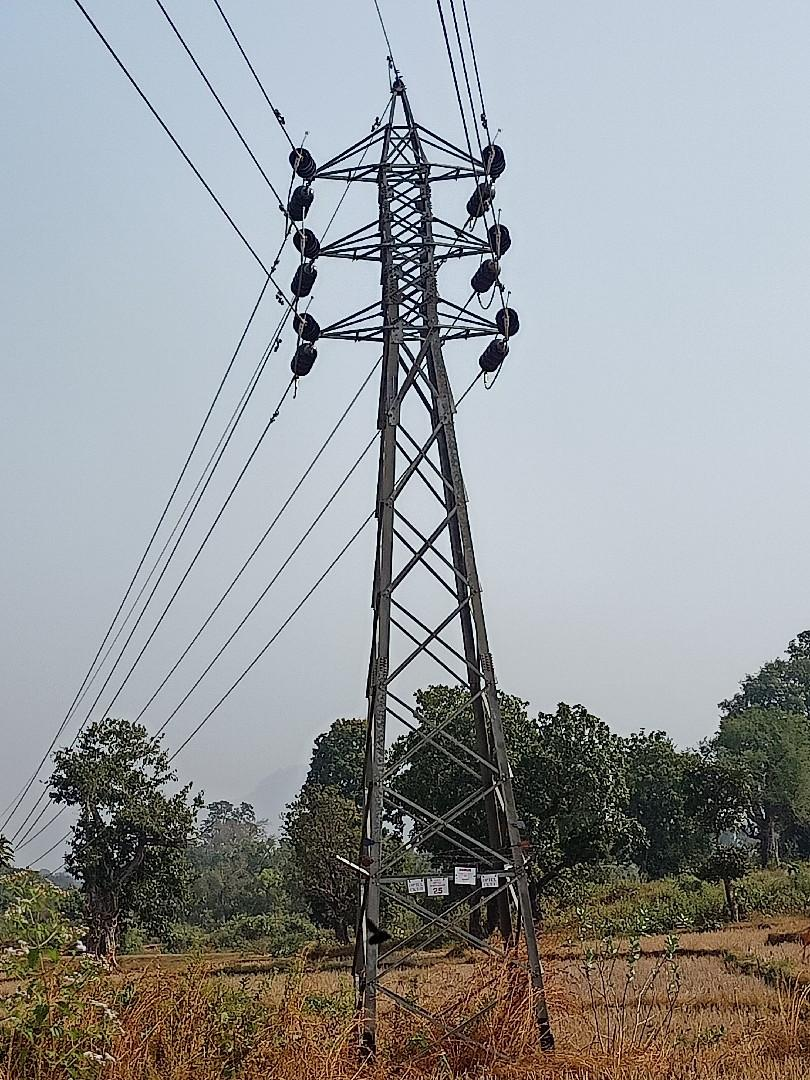GSM Antenna: (299, 70, 585, 969)
